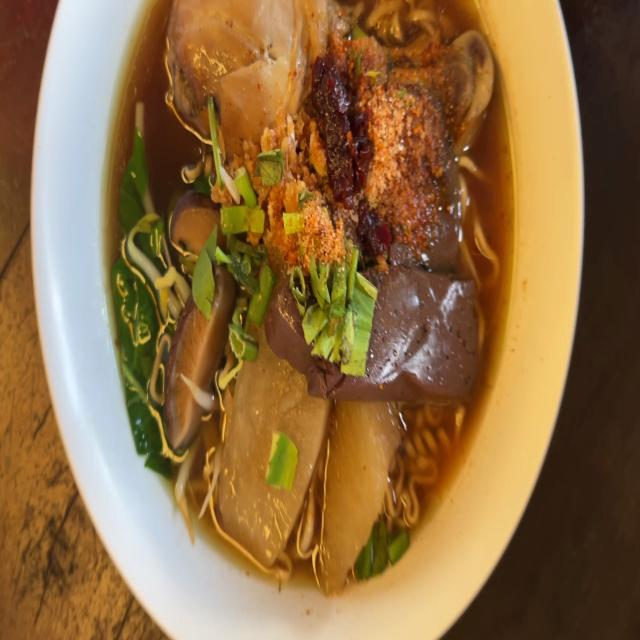boiled_chicken_blood_jelly: (274, 276, 478, 399)
chicken_drumstick: (153, 0, 492, 168)
daikon_radish: (221, 366, 396, 557)
noodle: (99, 0, 524, 594)
